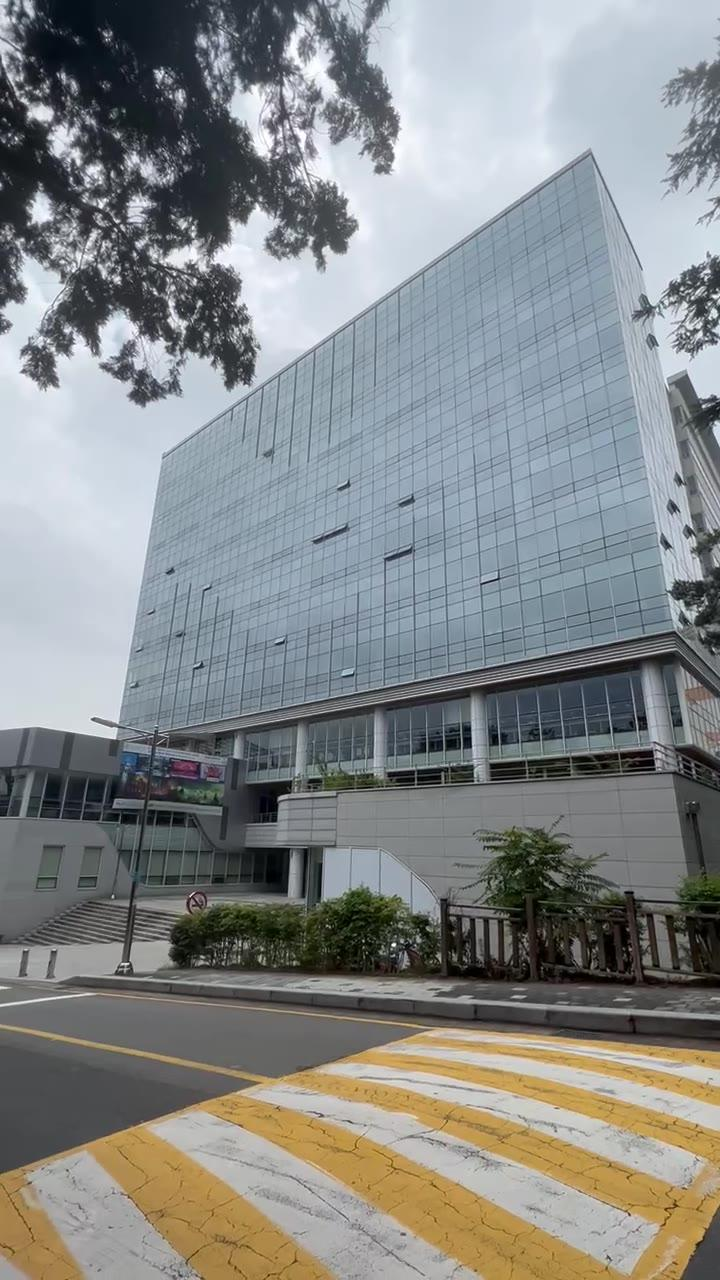building: (160, 278, 698, 758)
